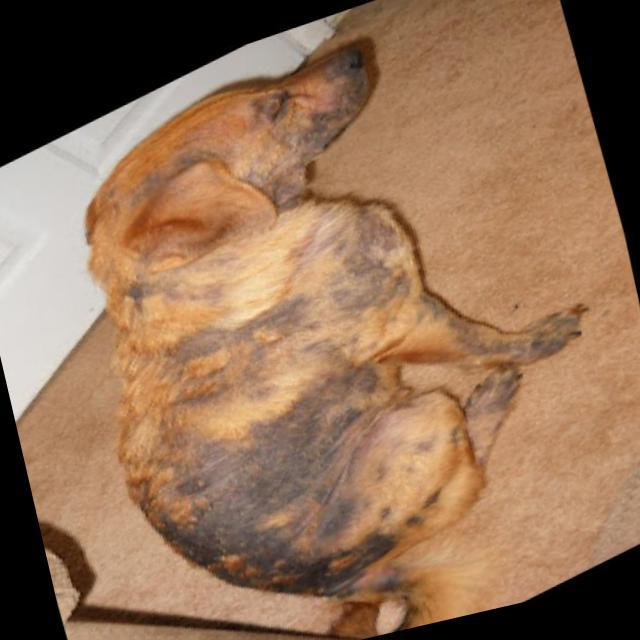allergic dermatitis: (161, 362, 381, 548), (193, 502, 385, 598)
